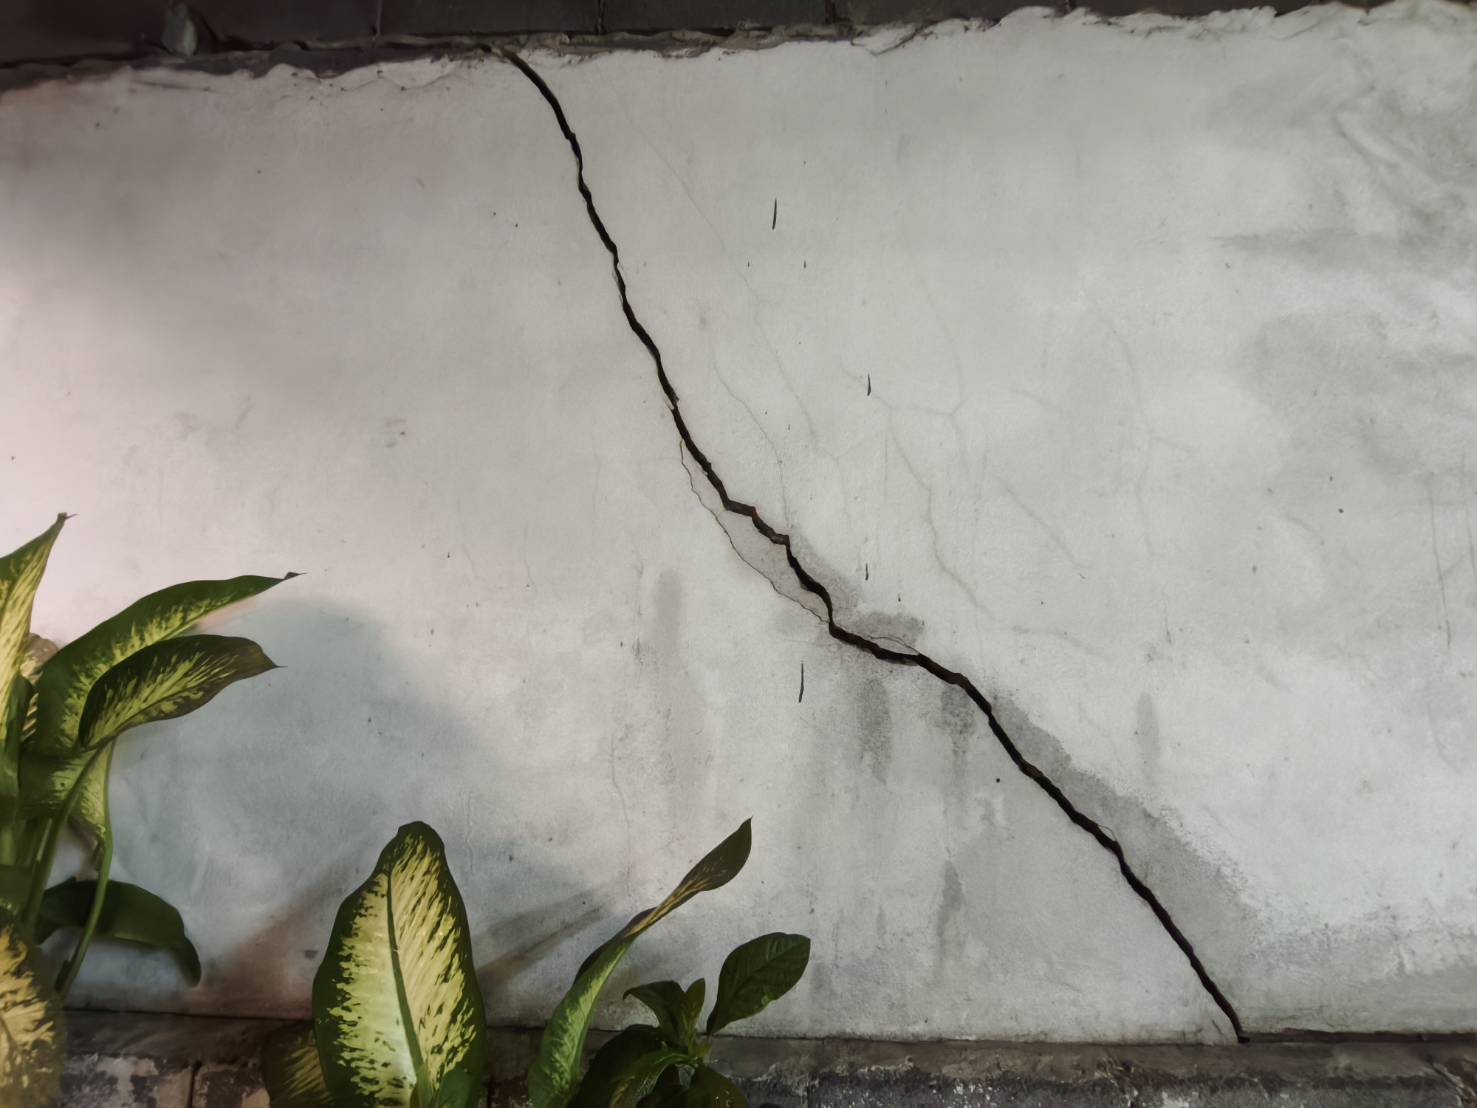High: (483, 43, 1269, 1038)
